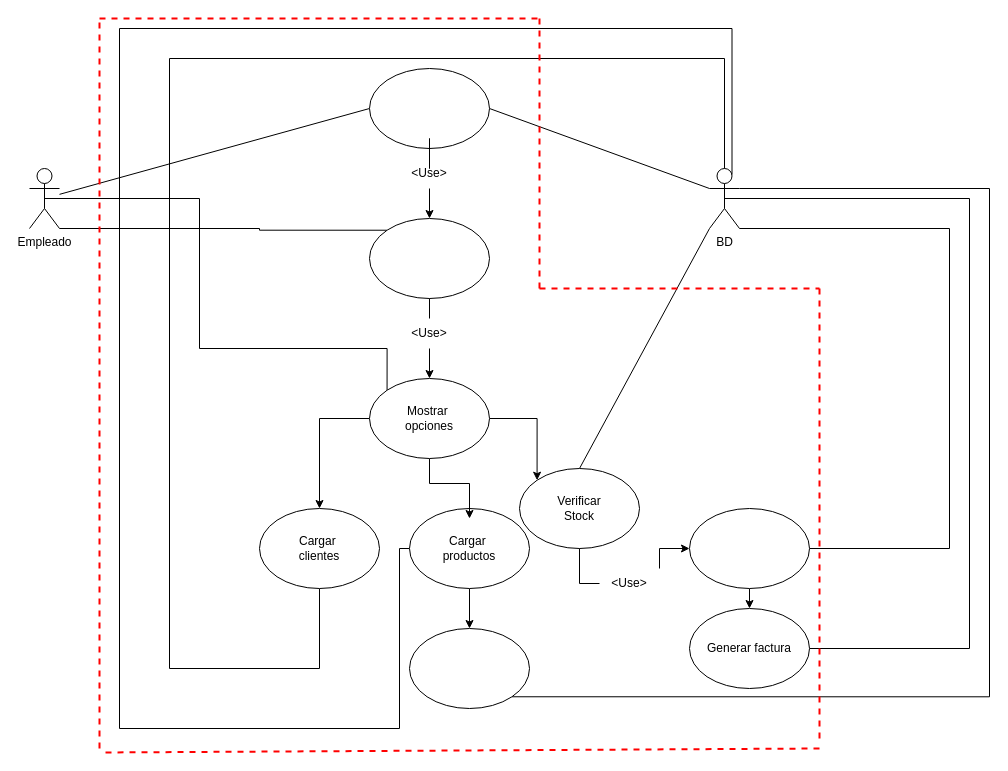
The diagram is 1008 pixels wide and 771 high, and some of its shapes have lost their labels. Here are the shapes that lost their labels. From the top down, the centre of each, then its label:
At [429,108]: "Registrarse".
At [429,258]: "Iniciar Sesion".
At [749,548]: "Cargar Pedidos".
At [469,668]: "Cargar Stock".
